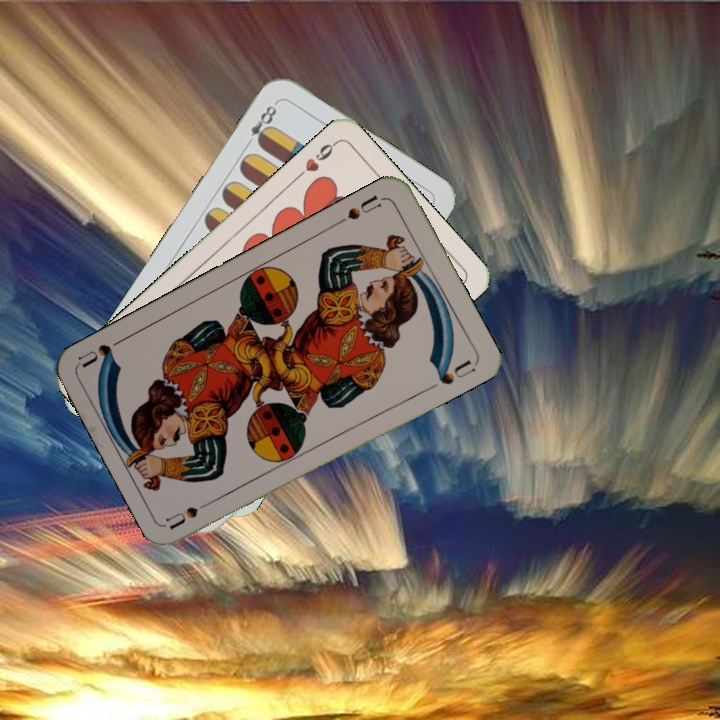E8: (241, 98, 280, 150)
H9: (292, 137, 340, 182)
SU: (164, 494, 220, 532), (333, 191, 388, 228)
